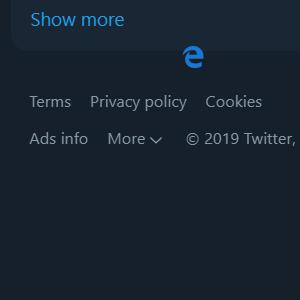edge: (182, 45, 204, 69)
